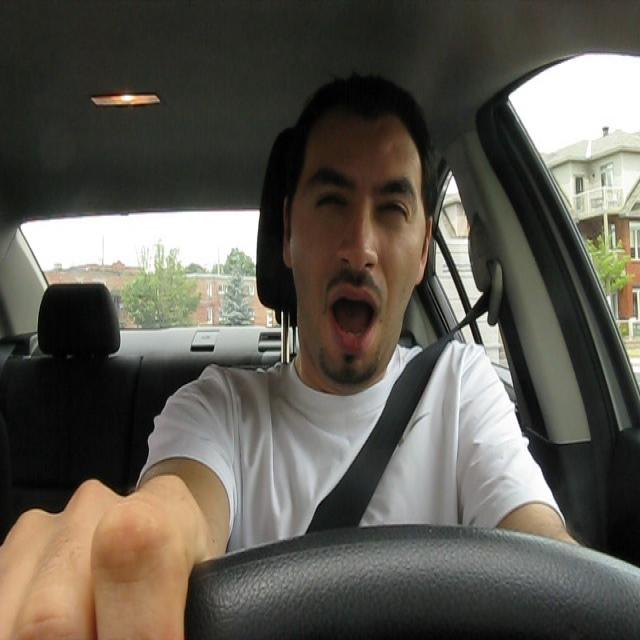Eyeclosed: (315, 187, 349, 223), (379, 196, 413, 227)
